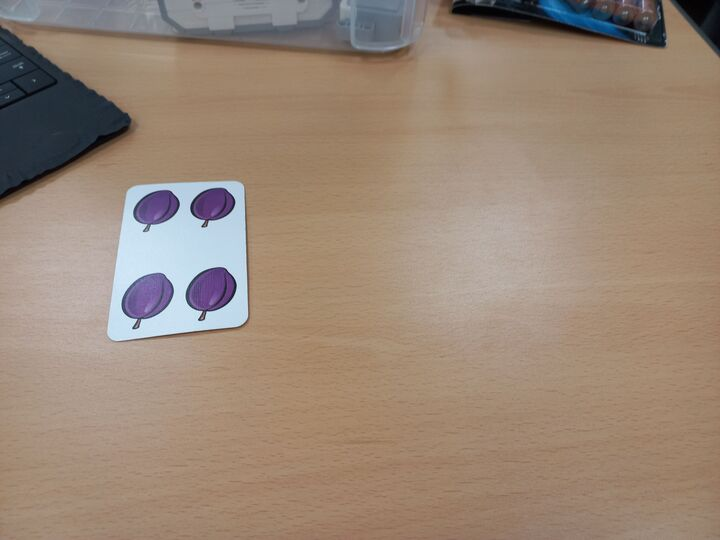plum4: (105, 179, 249, 343)
